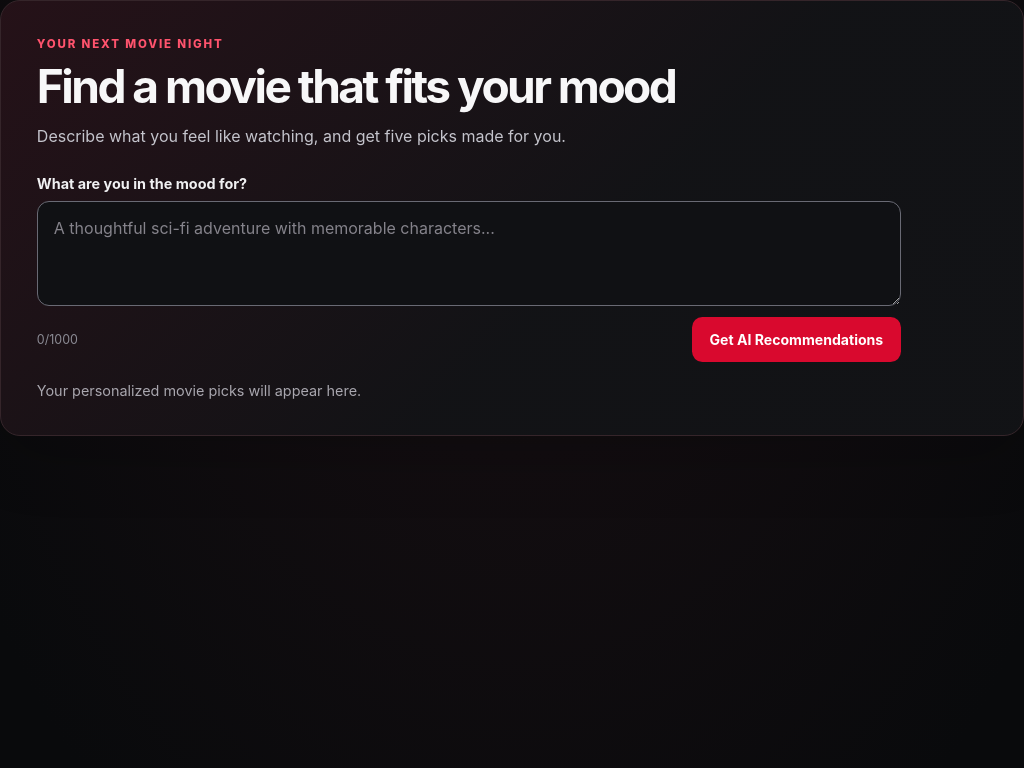
Test: AIRecommendationSection › sends the preference and renders all five recommendations
Step 1. Type "  thoughtful science fiction  " into the text box labelled "What are you in the mood for?" → x=469, y=254, box [37,201,901,306]
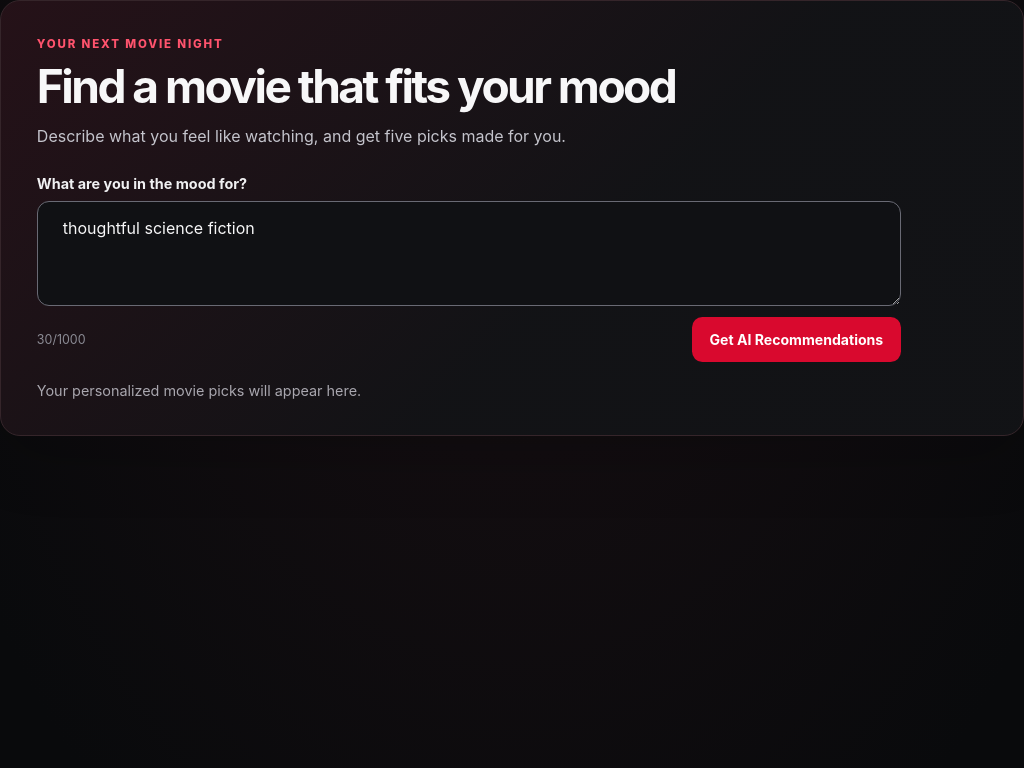
Step 2. Click the button "Get AI Recommendations" → x=796, y=339, box [692,316,901,362]
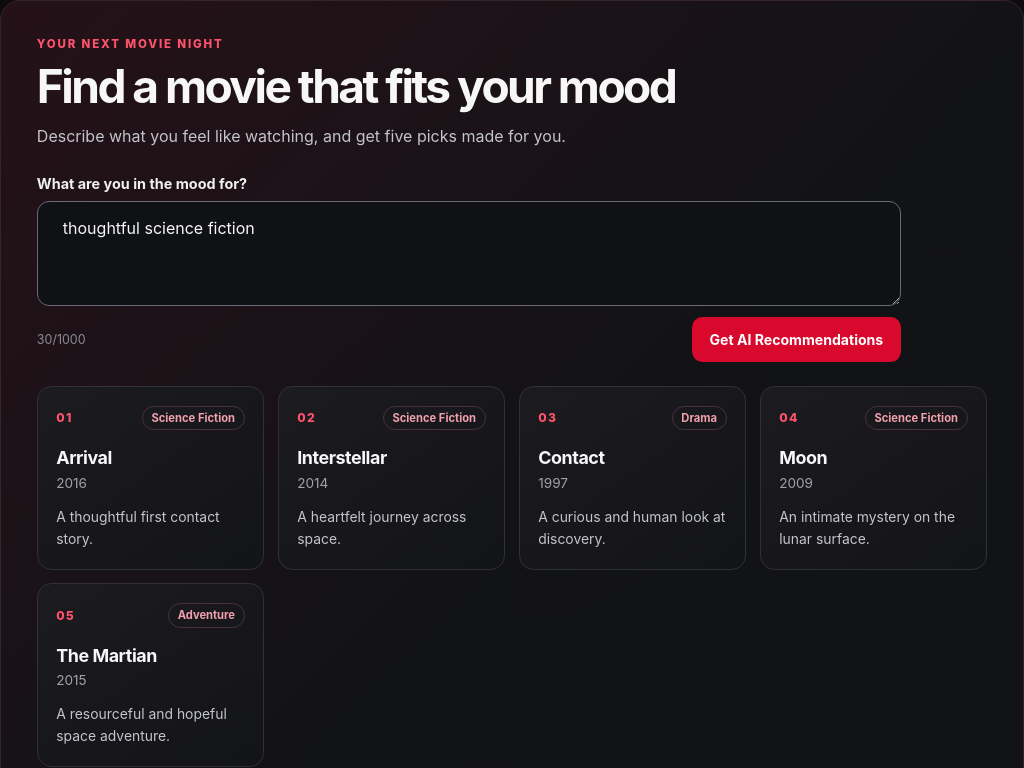
Check: the heading "Arrival" is shown, box [56,448,112,468]
Check: the text "2016" is shown, box [56,475,87,491]
Check: the text "Science Fiction" is shown 3 times, box [142,406,245,430]; [383,406,486,430]; [865,406,968,430]
